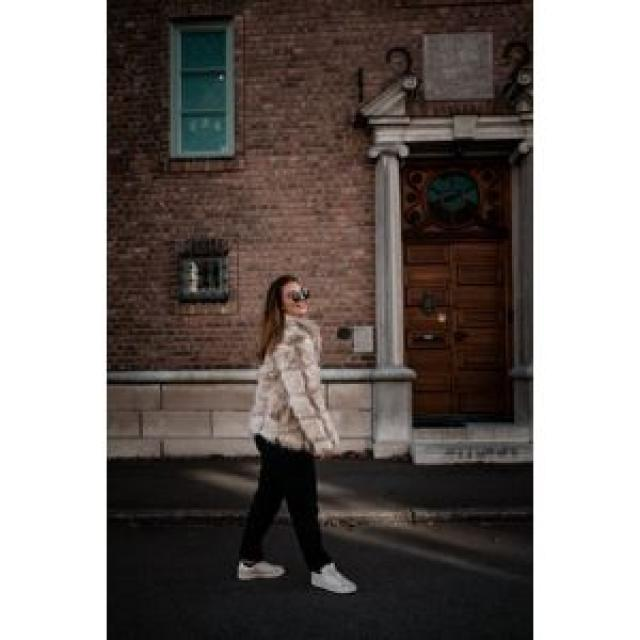nonfall: (216, 246, 368, 597)
